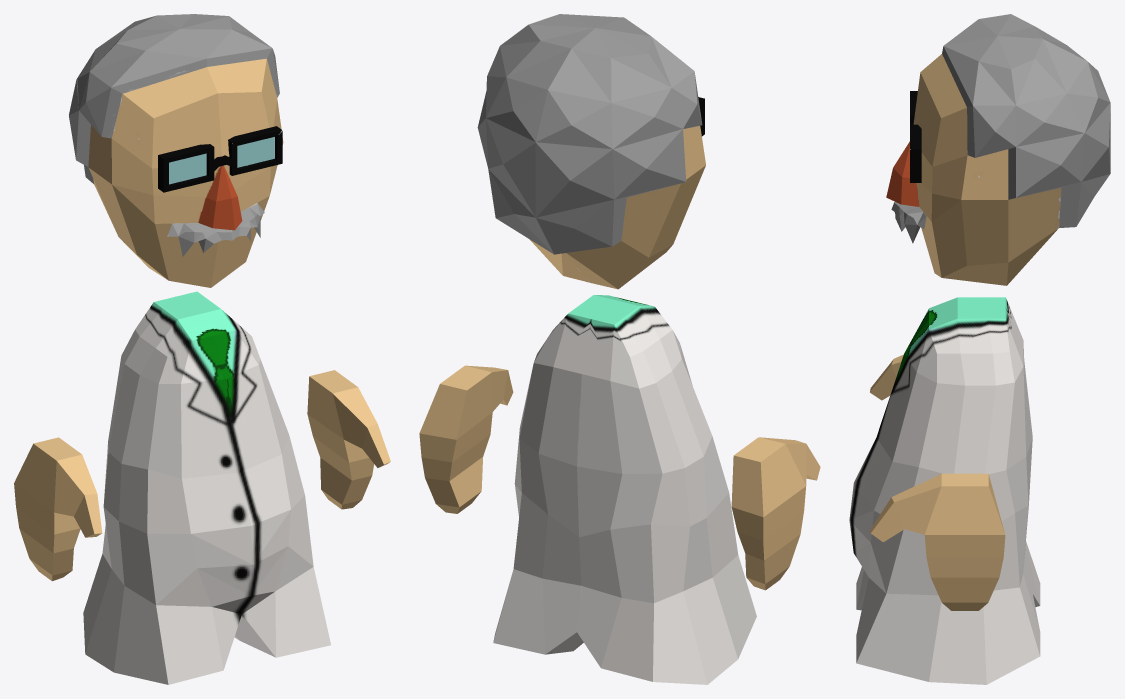
The model's file is scientist.fbx.
3 renders of one model, left to right at view 1: azimuth 30°, elevation 25°; view 2: azimuth 150°, elevation 25°; view 3: azimuth 270°, elevation 25°, orthographic. The views are drawn at different scales.
Visible parts, largest first — view 1: Head; view 2: Head; view 3: Head.
Part boxes in pixels (x1,y1,x2,y2): Head: (14, 14, 390, 684); Head: (419, 14, 820, 684); Head: (849, 14, 1110, 684).
Bounding box in the file's own units: 162 × 286 × 113.
